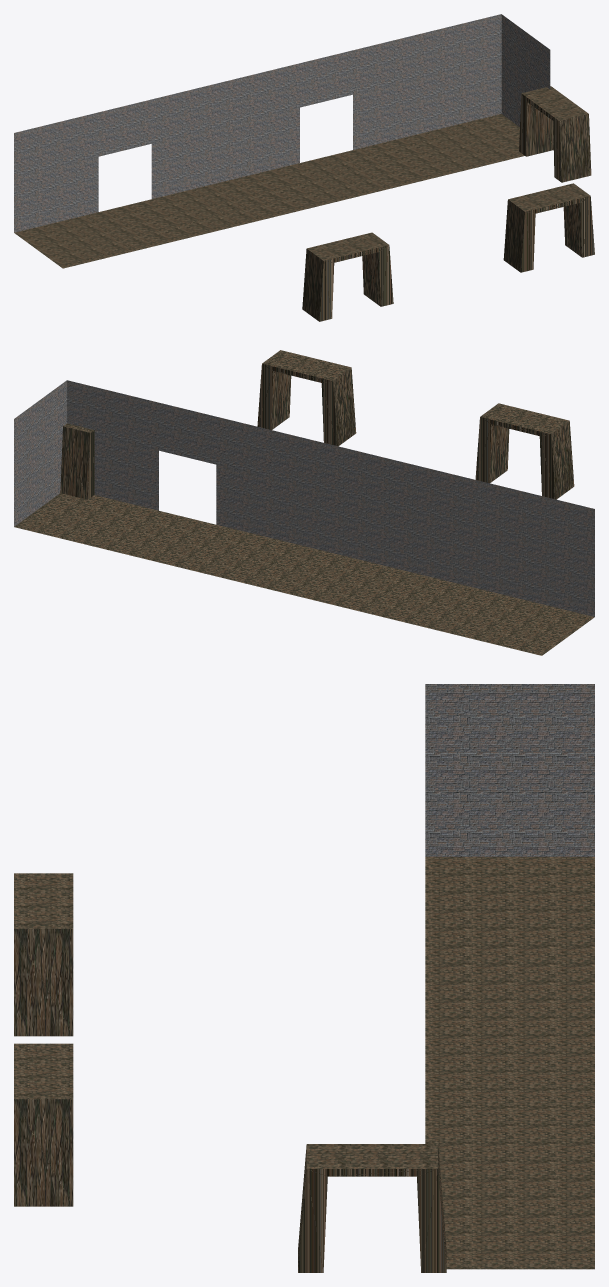
File: room.gltf
3 views of the same model, one above another, from view 1: azimuth 30°, elevation 25°; view 2: azimuth 150°, elevation 25°; view 3: azimuth 270°, elevation 25° (orthographic). The views are drawn at different scales.
Parts seen in each view (by area): view 1: parent, r2r1_impl, r3r1_impl, r1r2_impl; view 2: parent, r3r1_impl, r1r2_impl, r2r1_impl; view 3: parent, r1r2_impl, r3r1_impl, r2r1_impl.
Part boxes in pixels (box(x1,y1,x2,y2)): parent: box(14, 14, 550, 268); r2r1_impl: box(519, 86, 591, 182); r3r1_impl: box(302, 232, 393, 321); r1r2_impl: box(503, 183, 594, 272); parent: box(14, 380, 594, 655); r3r1_impl: box(475, 403, 574, 499); r1r2_impl: box(257, 350, 356, 446); r2r1_impl: box(60, 423, 94, 499); parent: box(425, 684, 594, 1269); r1r2_impl: box(14, 1043, 73, 1206); r3r1_impl: box(14, 873, 73, 1036); r2r1_impl: box(298, 1144, 446, 1272).
Size of the model in its own units: 23.2 by 4.5 by 13.7.
